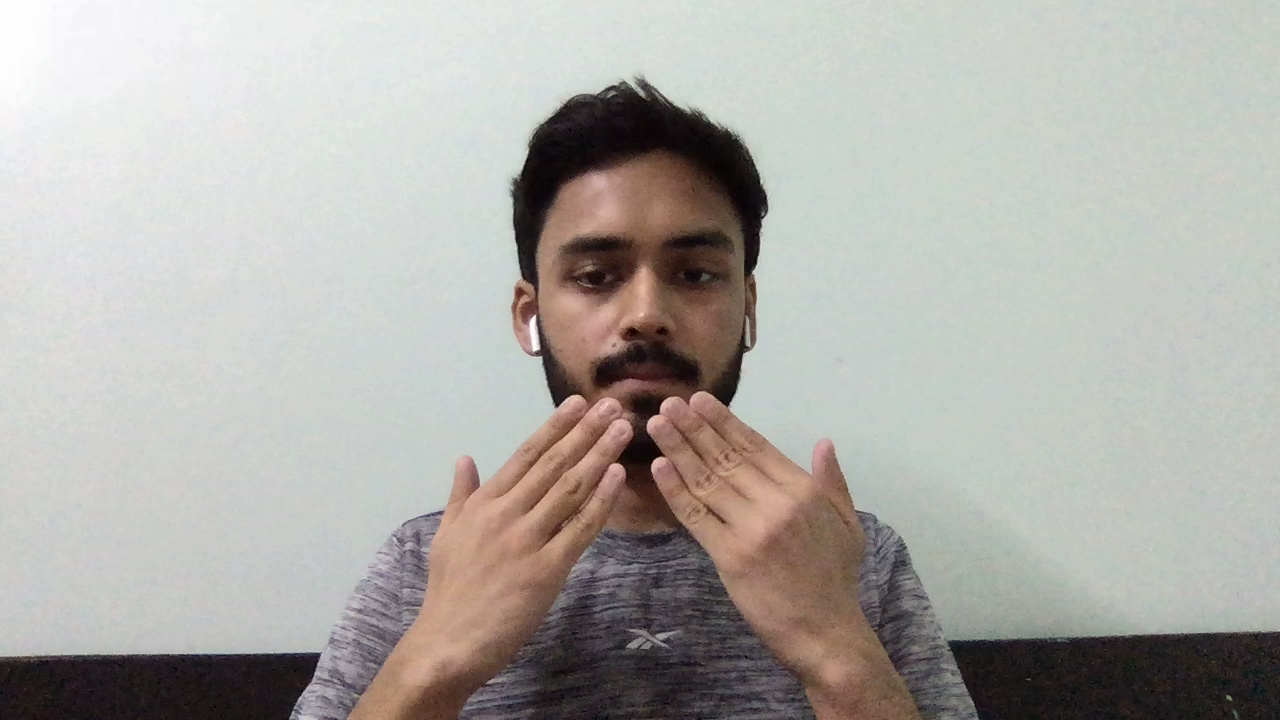Thank You: (382, 381, 905, 668)
